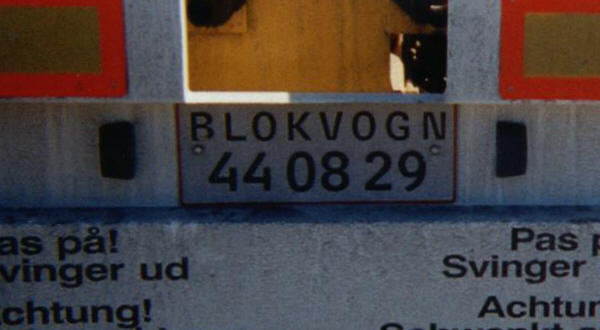license_plate: (176, 101, 458, 207)
